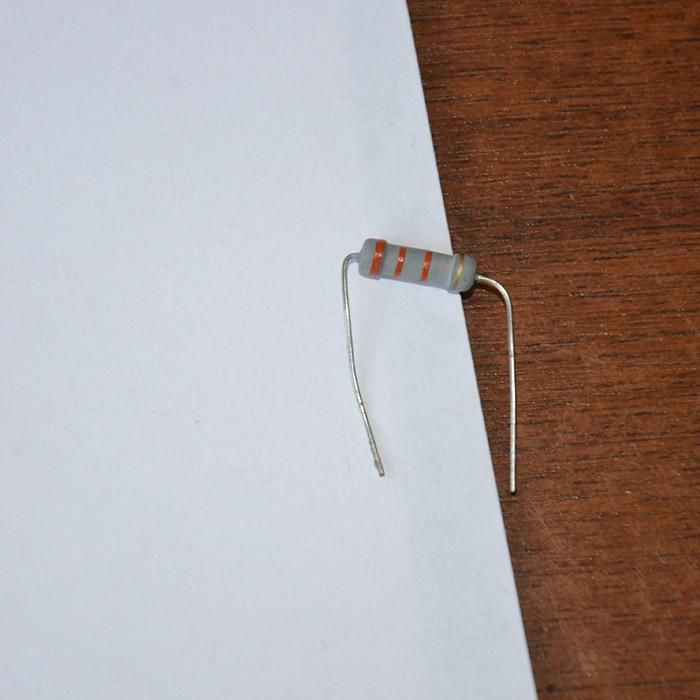resistor: (356, 236, 476, 293)
